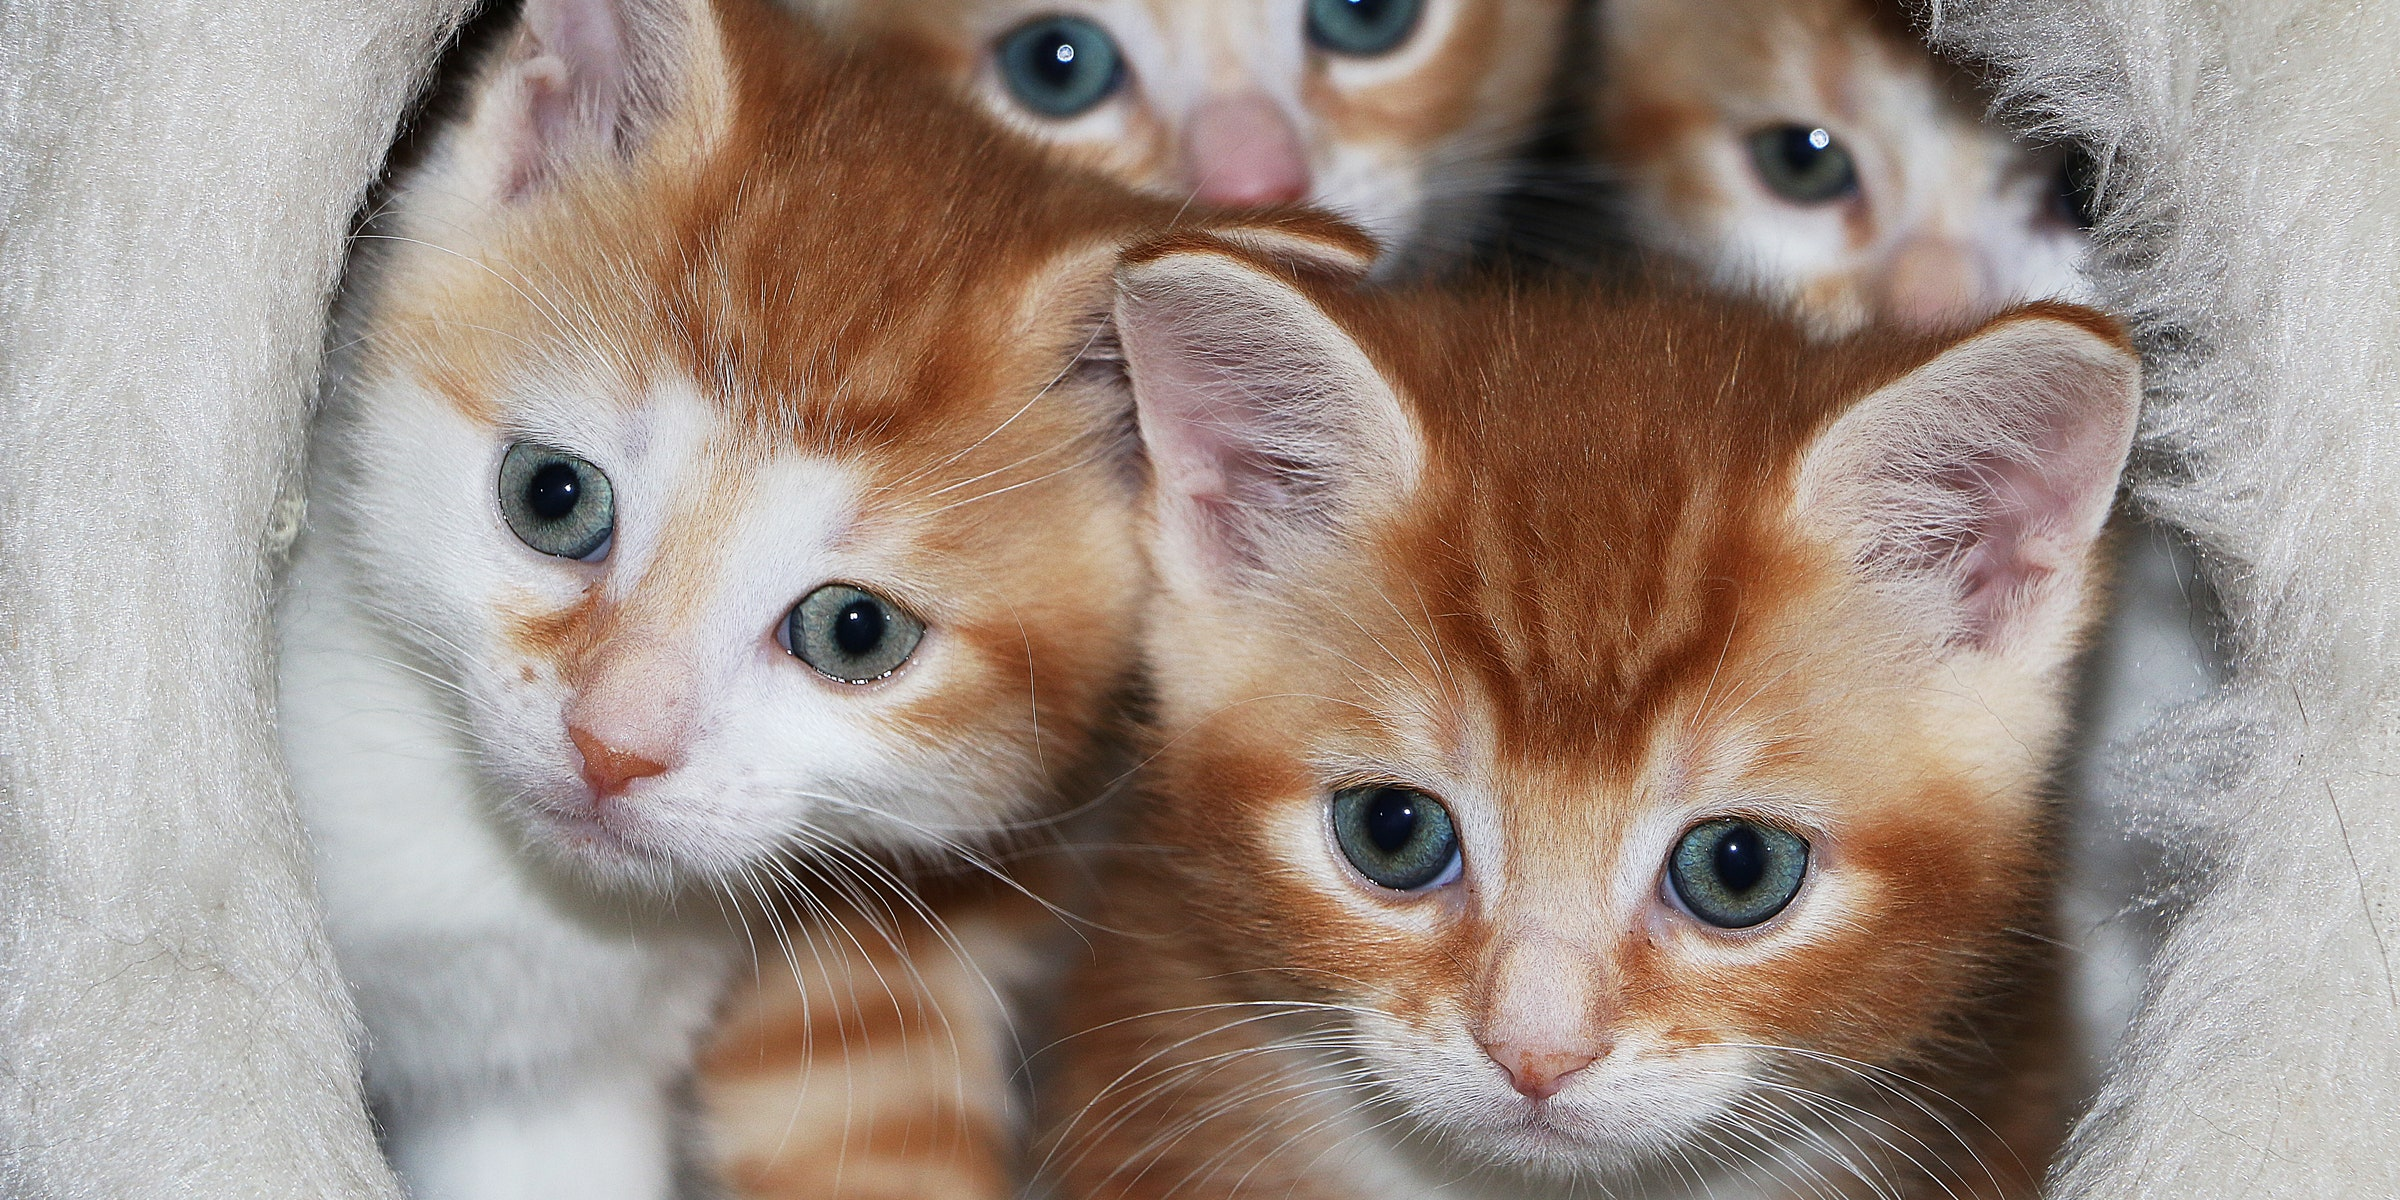pet: (1149, 249, 2097, 1200)
